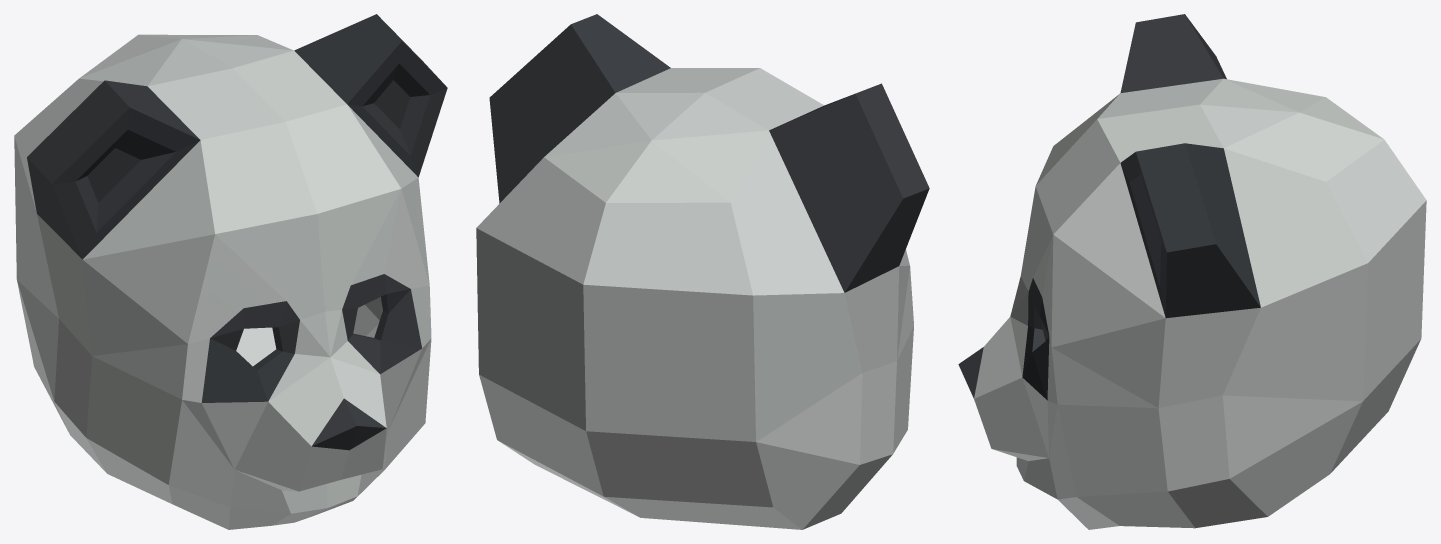
File: Item_Mask_Panda_01.glb
The picture shows the model from 3 angles, left to right: view 1: azimuth 30°, elevation 25°; view 2: azimuth 150°, elevation 25°; view 3: azimuth 270°, elevation 25°; orthographic projection. The views are drawn at different scales.
Visible parts, largest first — view 1: SM_Item_Mask_Panda_01; view 2: SM_Item_Mask_Panda_01; view 3: SM_Item_Mask_Panda_01.
Boxes of the visible parts, bbox=[...] form: SM_Item_Mask_Panda_01: bbox=[14, 14, 447, 529]; SM_Item_Mask_Panda_01: bbox=[476, 14, 929, 529]; SM_Item_Mask_Panda_01: bbox=[958, 14, 1426, 529].
Size of the model in its own units: 0.3659 by 0.3858 by 0.3854.
Materials: 1 (1 with a texture image).
